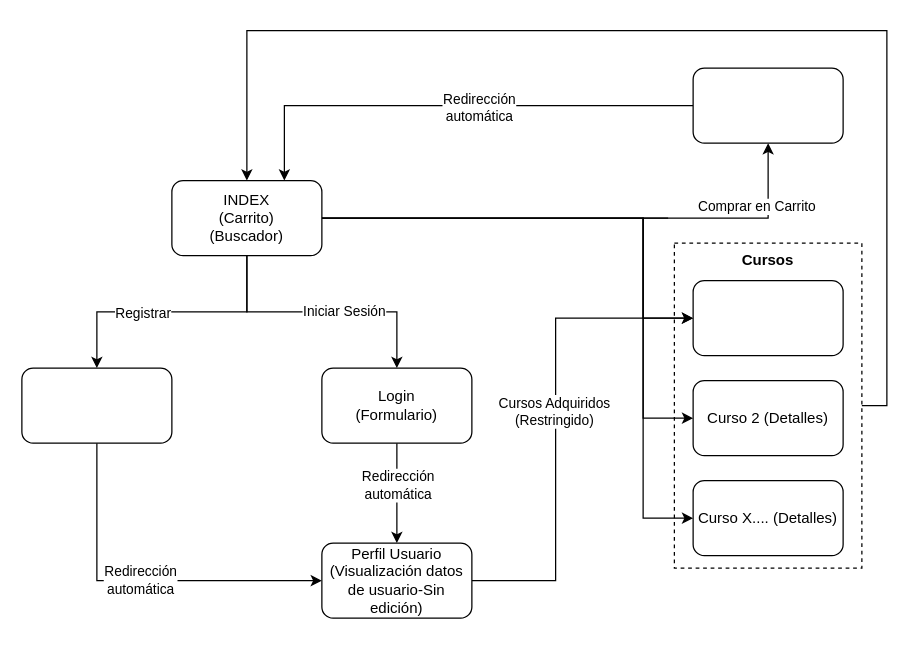
Image size: 919x651. Some labels were removed from this diagram. Here are the shapes that lost their labels. From the top down, the centre of each, then its label:
the point at 767,105: Pasarela de Pago (Tercero)
the point at 767,317: Curso 1 (Detalles)
the point at 96,405: Registrar Usuario (Formulario)
